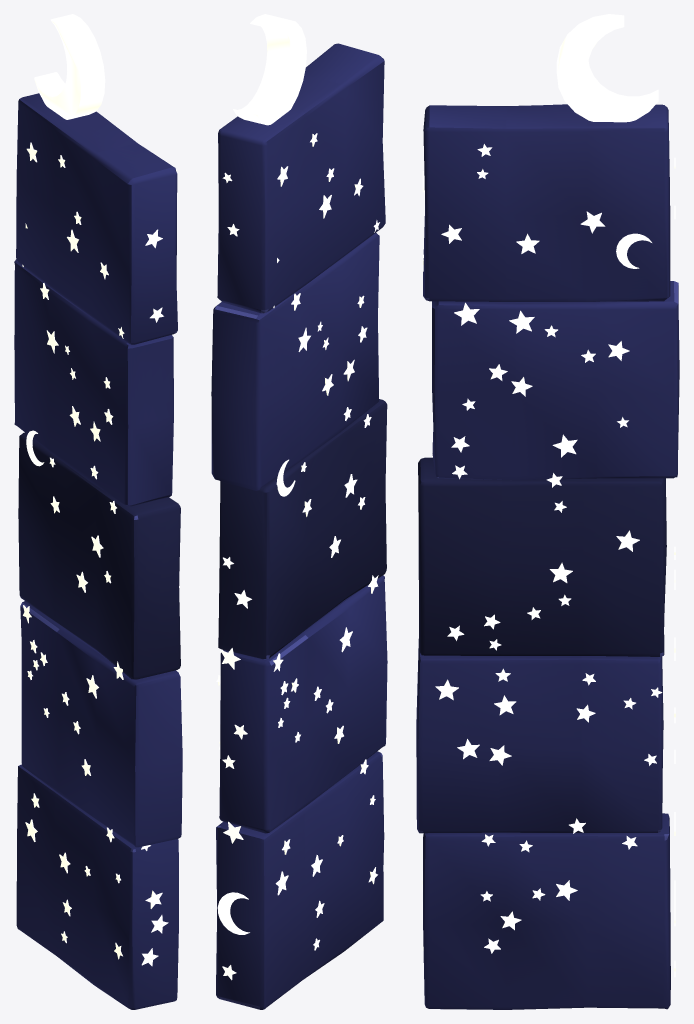
Rendered from den_moon_bookend.glb.
The picture shows the model from 3 angles, left to right: view 1: azimuth 30°, elevation 25°; view 2: azimuth 150°, elevation 25°; view 3: azimuth 270°, elevation 25°; orthographic projection. The views are drawn at different scales.
Parts seen in each view (by area): view 1: den_moon_bookend; view 2: den_moon_bookend; view 3: den_moon_bookend.
Part boxes in pixels (x1=…): den_moon_bookend: x1=14, y1=14, x2=182, y2=1009; den_moon_bookend: x1=211, y1=14, x2=387, y2=1009; den_moon_bookend: x1=416, y1=14, x2=679, y2=1009.
Bounding box in the file's own units: 2.54 × 43.19 × 10.52.
